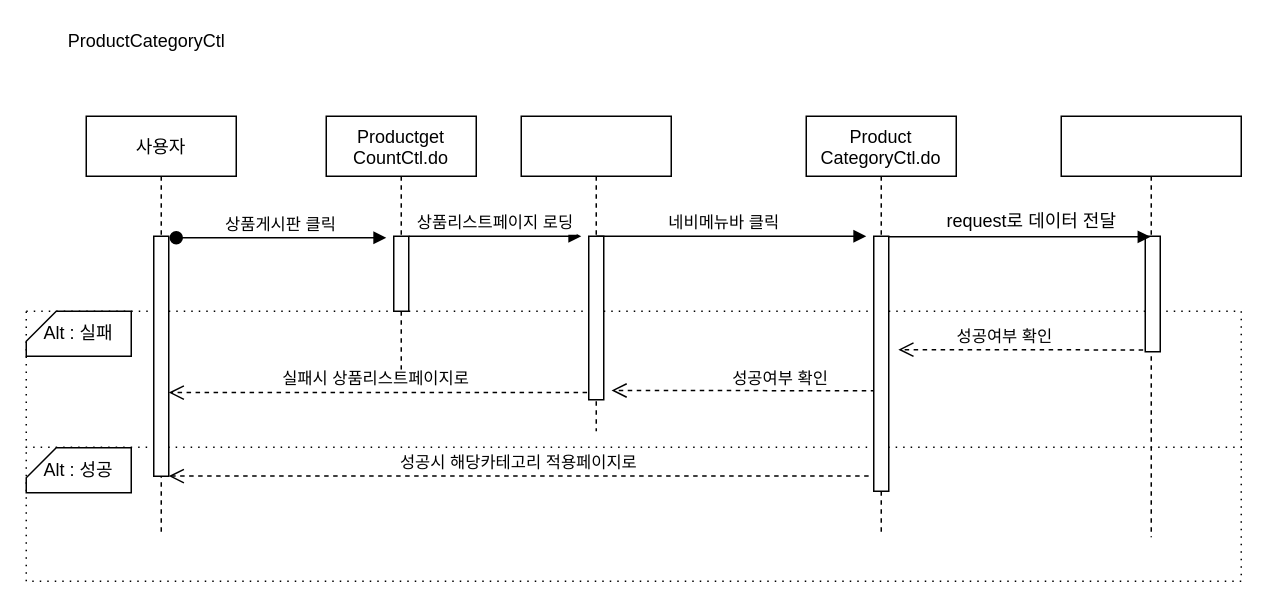
This 1268x608 diagram has some shape labels left out. The shapes that lost their labels are listed below. From the top down, each one's centre as x and y in pixels, then its label:
At [595,273]: "Productlist.jsp".
At [1150,326]: "DB Board".
